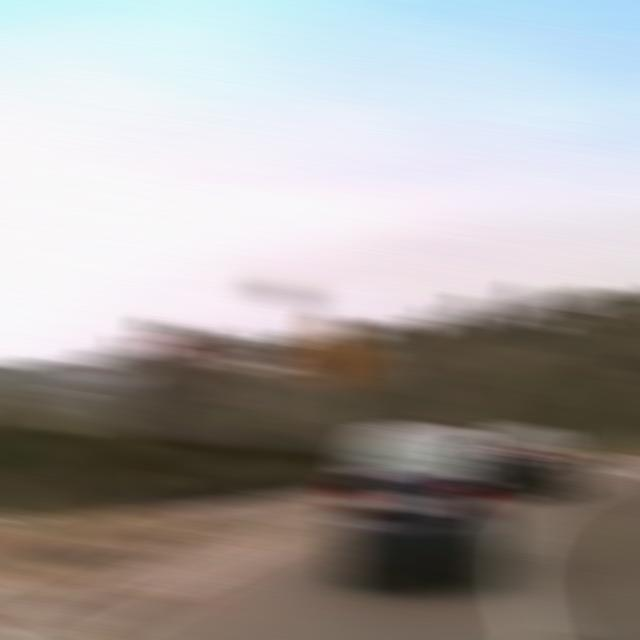yield: (142, 332, 206, 388)
